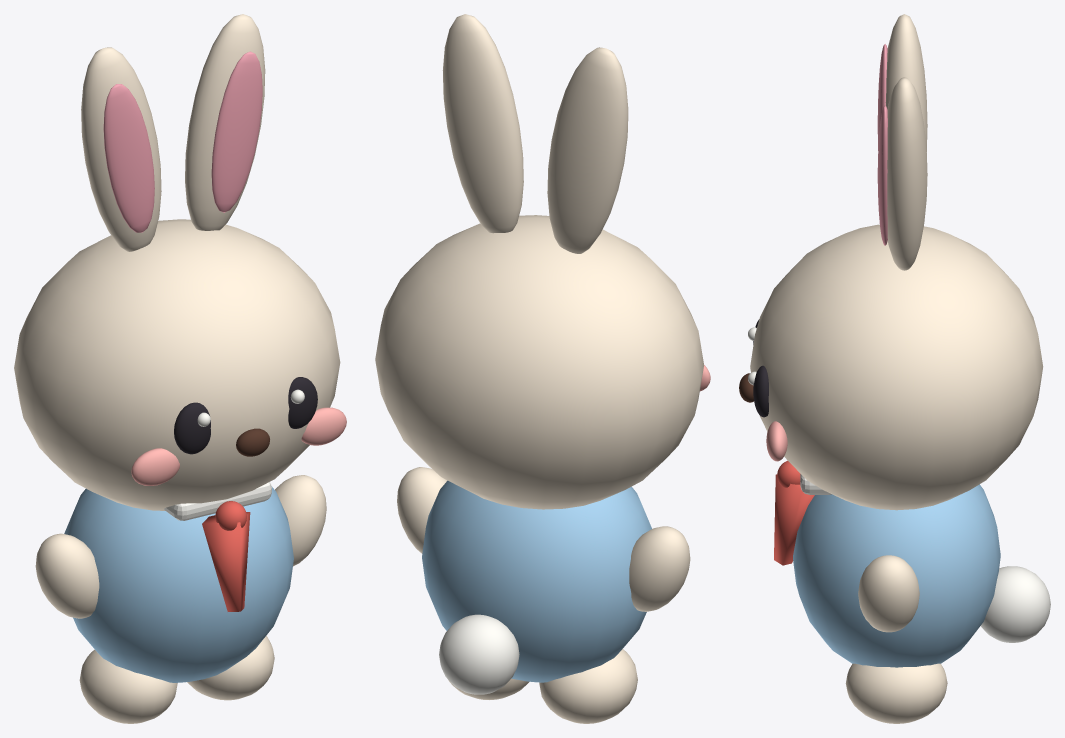
File: char_bunny.glb
3 views of the same model, side by side, from view 1: azimuth 30°, elevation 25°; view 2: azimuth 150°, elevation 25°; view 3: azimuth 270°, elevation 25° (orthographic). The views are drawn at different scales.
Parts seen in each view (by area): view 1: bunny_head, bunny_body, bunny_ear_1, bunny_ear_-1, bunny_ear_in_1, bunny_ear_in_-1, bunny_leg_L, bunny_arm_L, bunny_arm_R, bunny_tie, bunny_leg_R, bunny_eye_-1 (+6 smaller); view 2: bunny_head, bunny_body, bunny_ear_1, bunny_ear_-1, bunny_tail, bunny_leg_L, bunny_arm_L, bunny_arm_R, bunny_leg_R; view 3: bunny_head, bunny_body, bunny_ear_1, bunny_leg_R, bunny_tail, bunny_arm_R, bunny_ear_-1, bunny_tie, bunny_ear_in_1, bunny_eye_1, bunny_blush_1, bunny_ear_in_-1.
Boxes of the visible parts, x1,y1,x2,y2 form: bunny_head: (14, 219, 340, 510); bunny_body: (64, 486, 293, 682); bunny_ear_1: (185, 14, 265, 230); bunny_ear_-1: (81, 47, 161, 251); bunny_ear_in_1: (211, 51, 262, 212); bunny_ear_in_-1: (103, 84, 154, 232); bunny_leg_L: (79, 649, 177, 723); bunny_arm_L: (35, 533, 99, 618); bunny_arm_R: (275, 475, 326, 566); bunny_tie: (202, 512, 250, 611); bunny_leg_R: (187, 635, 274, 700); bunny_eye_-1: (174, 402, 210, 454); bunny_head: (375, 215, 703, 509); bunny_body: (422, 480, 651, 682); bunny_ear_1: (442, 14, 523, 233); bunny_ear_-1: (547, 47, 628, 253); bunny_tail: (439, 614, 519, 694); bunny_leg_L: (539, 649, 637, 723); bunny_arm_L: (629, 526, 690, 611); bunny_arm_R: (397, 467, 447, 553); bunny_leg_R: (448, 678, 529, 699); bunny_head: (750, 224, 1043, 510); bunny_body: (793, 484, 1000, 667); bunny_ear_1: (887, 77, 927, 270); bunny_leg_R: (845, 663, 947, 723); bunny_tail: (980, 566, 1050, 642); bunny_arm_R: (858, 555, 919, 632); bunny_ear_-1: (885, 14, 927, 151); bunny_tie: (774, 474, 814, 565); bunny_ear_in_1: (877, 105, 887, 245); bunny_eye_1: (753, 365, 768, 417); bunny_blush_1: (766, 421, 787, 461); bunny_ear_in_-1: (877, 44, 887, 150).
Size of the model in its own units: 0.418 by 0.9287 by 0.4044.
Materials: 1 (1 with a texture image).
